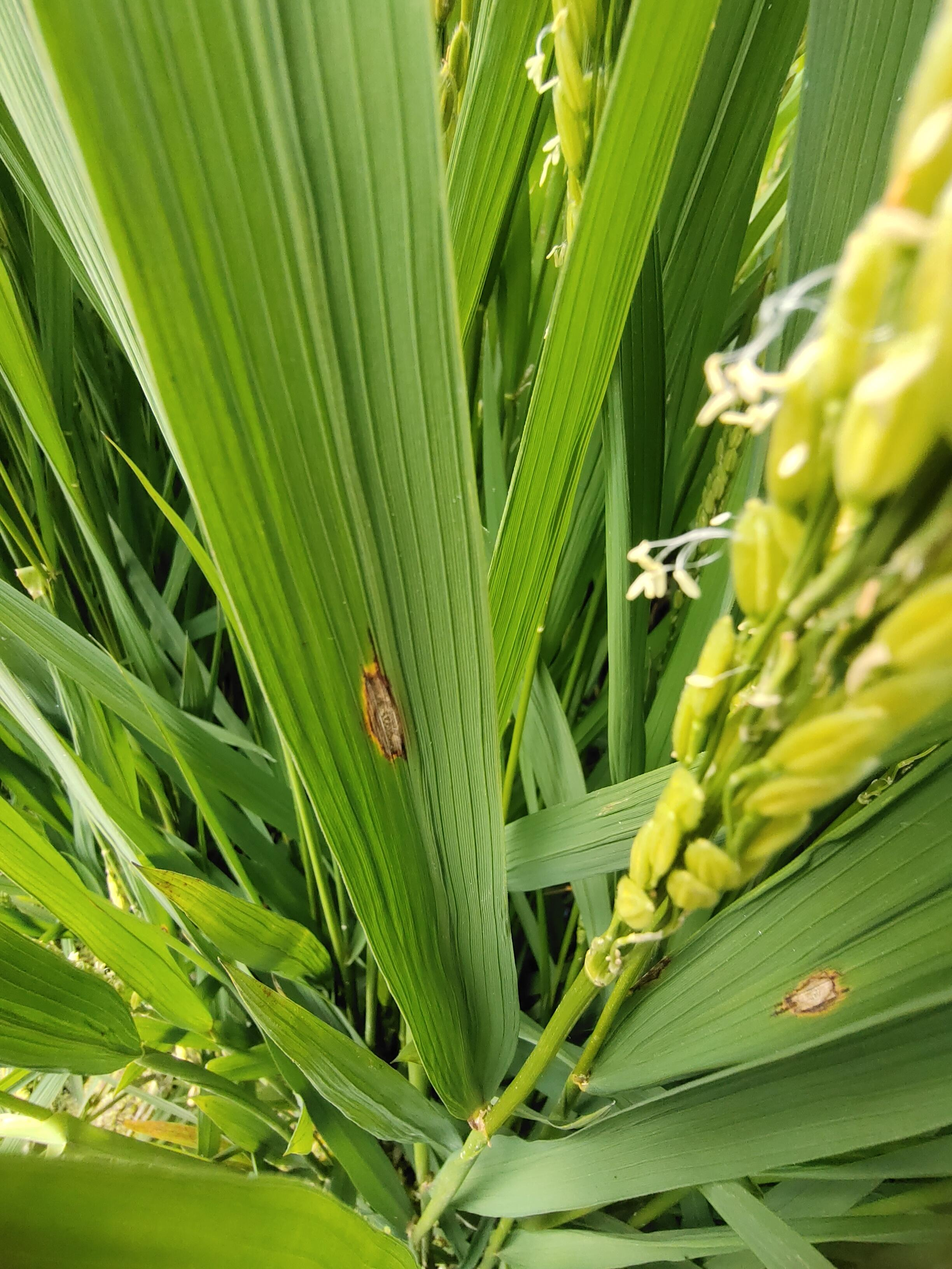LEAF BLAST: (361, 659, 405, 761)
